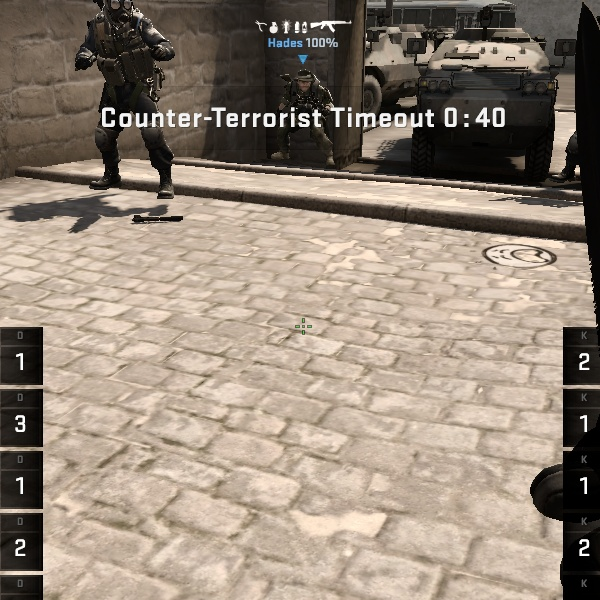ct_body: (58, 1, 191, 214), (265, 63, 353, 172)
ct_head: (91, 1, 136, 30), (289, 66, 326, 98)
